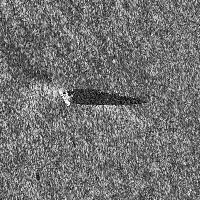mine: (57, 87, 149, 107)
